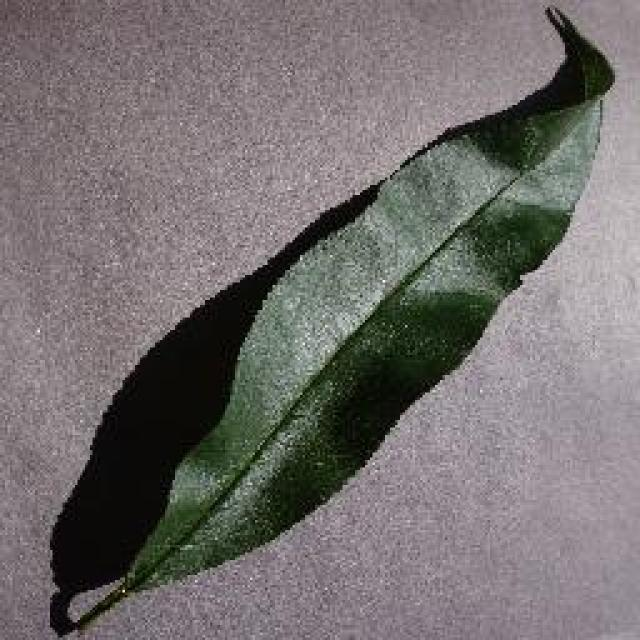Pea_healthy: (155, 136, 596, 562)
